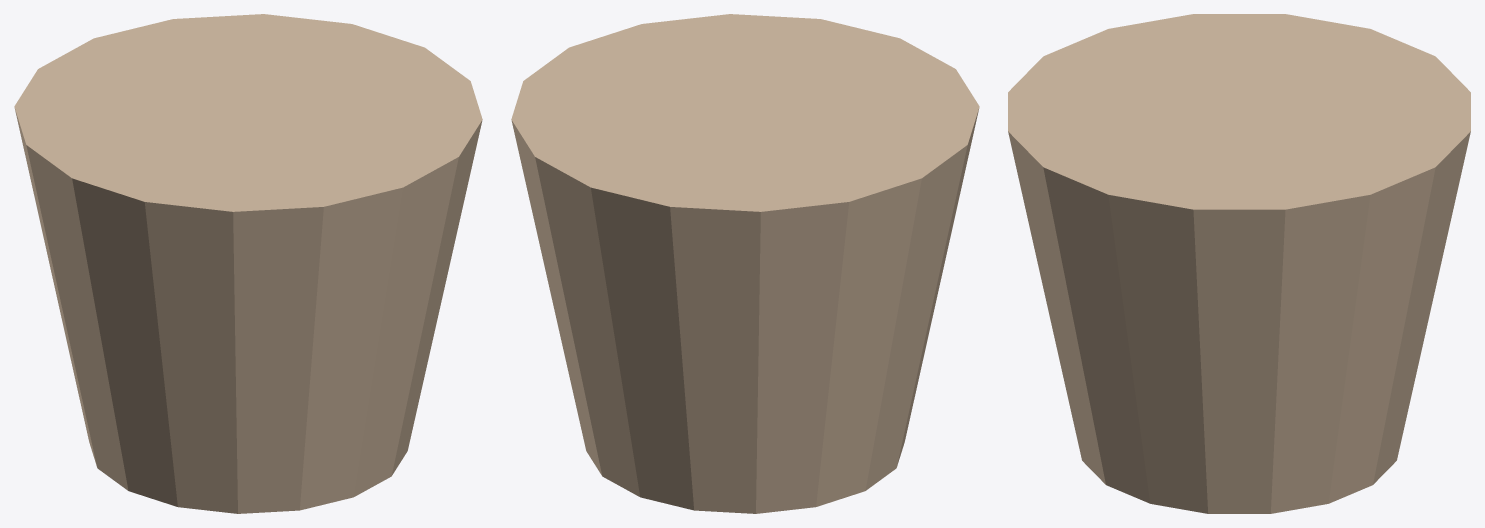
The model's file is science_container_collider.obj.
3 renders of one model, left to right at view 1: azimuth 30°, elevation 25°; view 2: azimuth 150°, elevation 25°; view 3: azimuth 270°, elevation 25°, orthographic.
Visible parts, largest first — view 1: c; view 2: c; view 3: c.
Boxes of the visible parts, <box> form: c: <box>14,14,482,513</box>; c: <box>511,14,979,513</box>; c: <box>1008,14,1470,513</box>.
Size of the model in its own units: 0.625 by 0.5 by 0.625.
